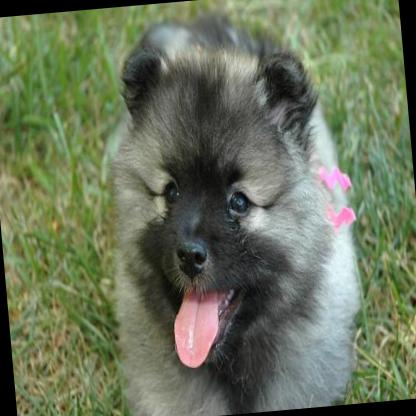keeshond: (89, 1, 371, 416)
